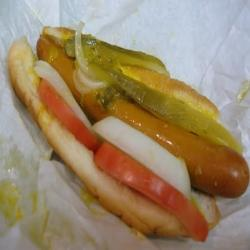hotdog: (5, 28, 246, 240)
